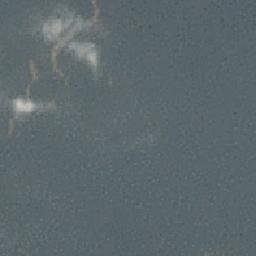cloud: (35, 4, 106, 80), (6, 89, 49, 126)
